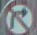Don't turn right: (4, 3, 34, 34)
